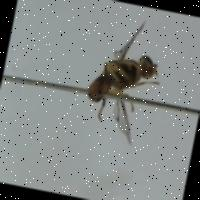Oriental-fruit-fly: (75, 6, 181, 154)
